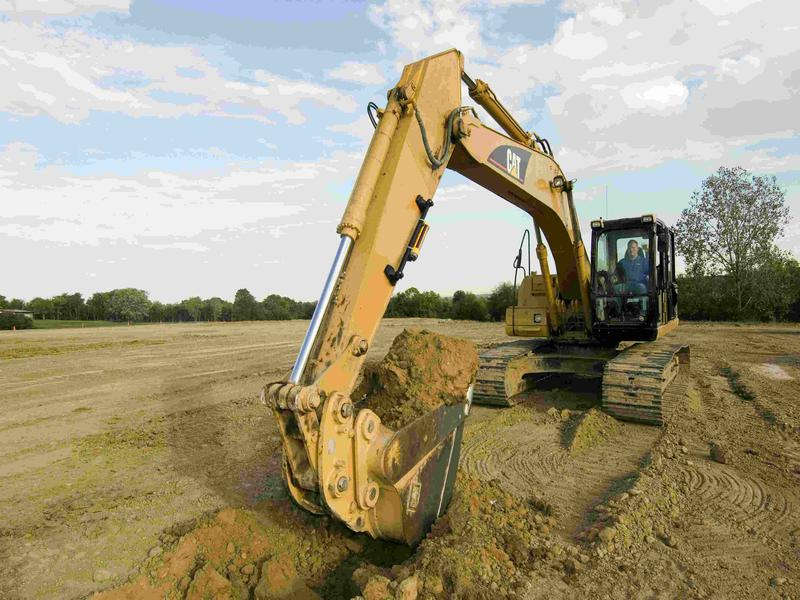shovel: (256, 43, 692, 549)
